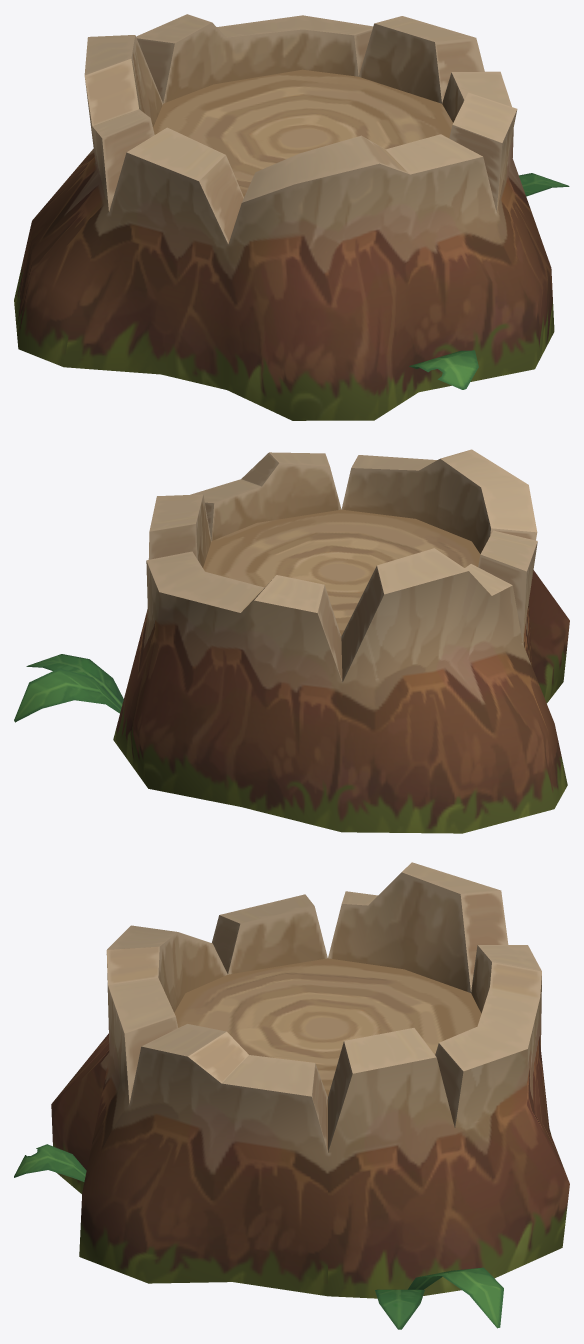
File: Na_Stump_01.FBX
3 views of the same model, one above another, from view 1: azimuth 30°, elevation 25°; view 2: azimuth 150°, elevation 25°; view 3: azimuth 270°, elevation 25° (orthographic). The views are drawn at different scales.
Visible parts, largest first — view 1: Na_Stump_01; view 2: Na_Stump_01; view 3: Na_Stump_01.
Boxes of the visible parts, x1,y1,x2,y2 form: Na_Stump_01: (14, 14, 569, 420); Na_Stump_01: (14, 449, 569, 833); Na_Stump_01: (14, 862, 569, 1329).
Bounding box in the file's own units: 1.51 × 0.6655 × 1.27.
1 material, 1 textured.
